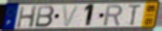1: (83, 3, 95, 28)
B: (33, 5, 56, 28)
H: (15, 5, 39, 29)
R: (102, 4, 124, 27)
T: (127, 4, 143, 27)
V: (62, 4, 81, 28)
